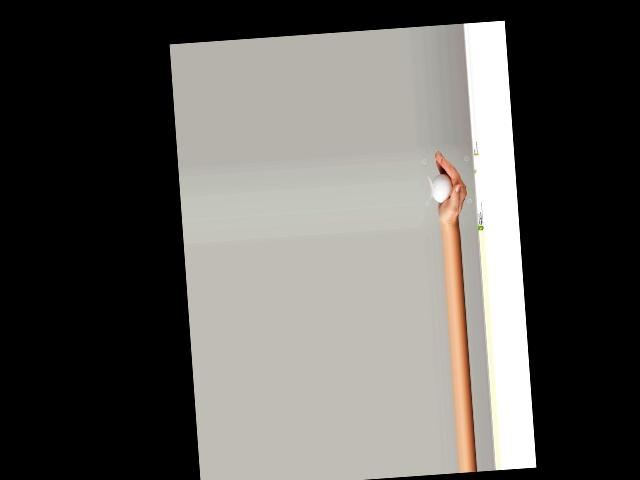egg: (431, 172, 453, 203)
